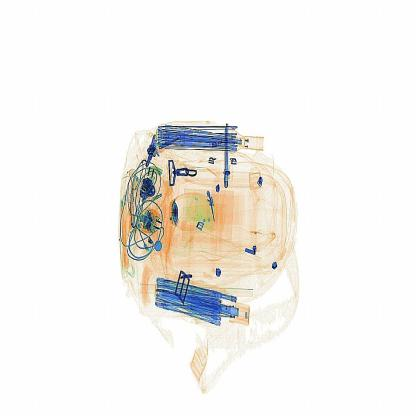pliers: (210, 117, 239, 196)
